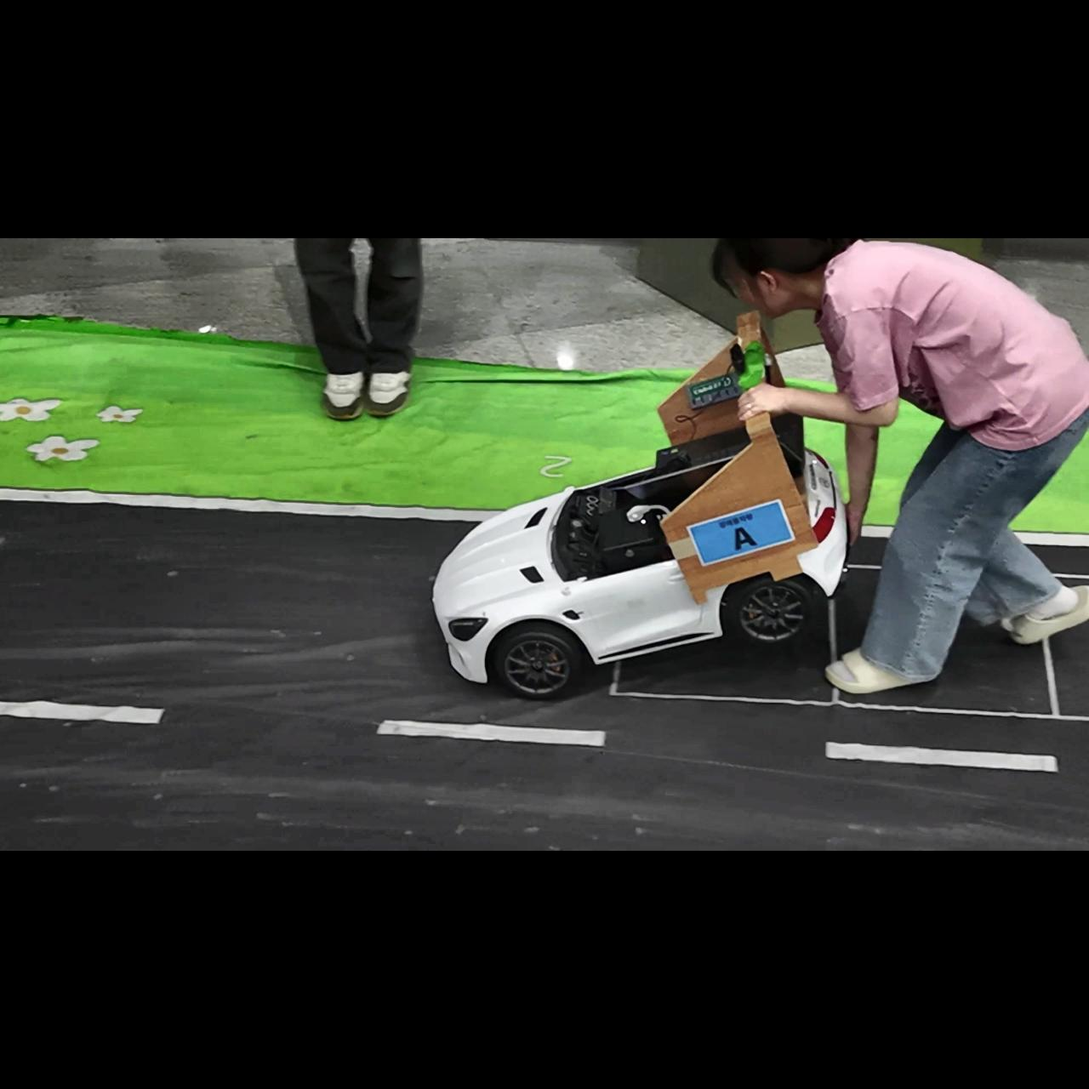broken_line: (825, 741, 1058, 772), (377, 720, 605, 746), (0, 700, 165, 723)
